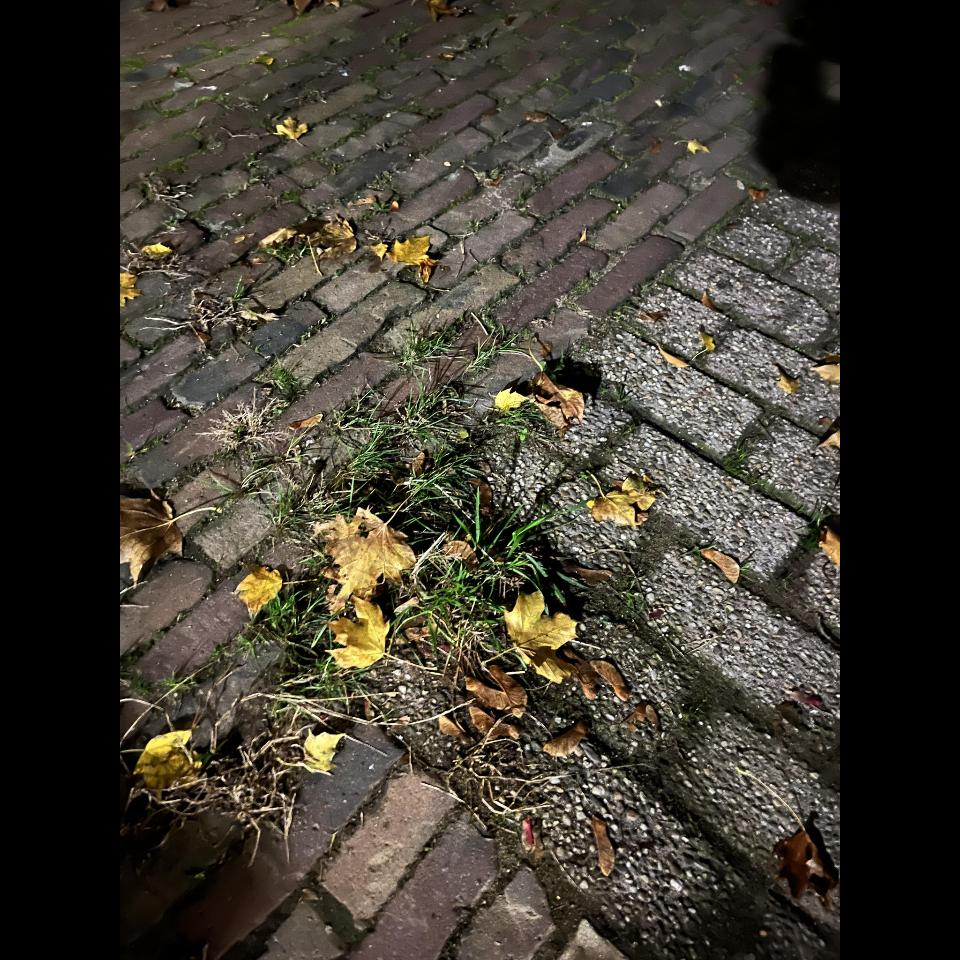weed: (206, 309, 549, 713), (144, 37, 243, 123), (216, 507, 290, 616), (278, 111, 382, 171)
